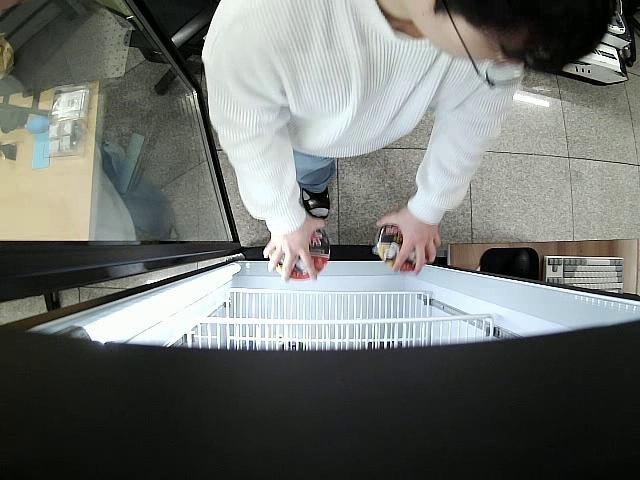07_buldak_L: (268, 225, 328, 278), (378, 223, 431, 276)
